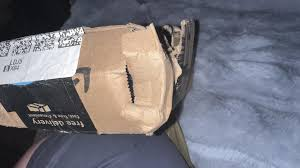damaged package: (121, 20, 198, 136), (123, 64, 135, 105)
